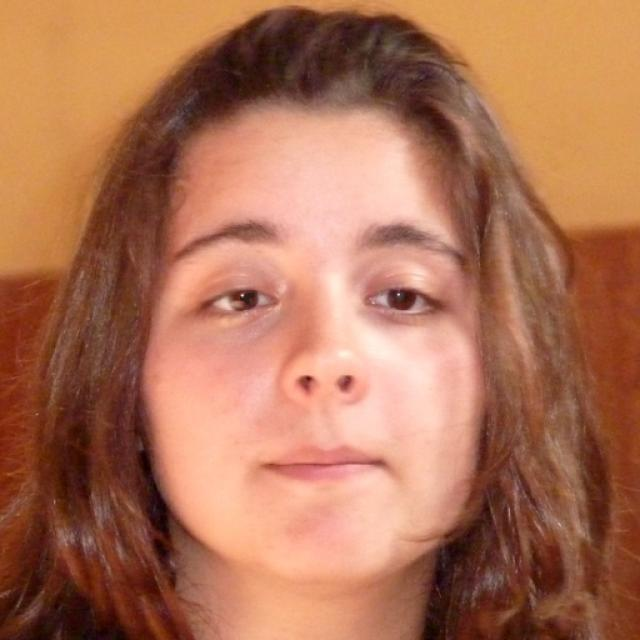neutral: (136, 90, 495, 588)
